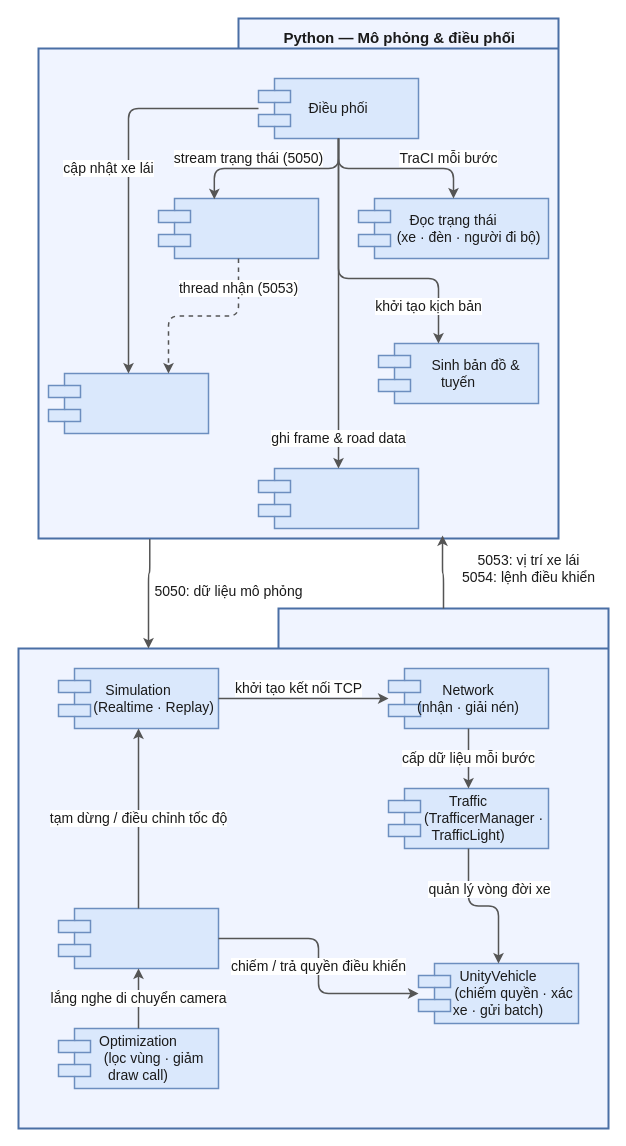
The diagram is 626 pixels wide and 1146 high, and some of its shapes have lost their labels. Each missing label, with the box of its shape:
Lưu phiên: (257, 467, 419, 529)
Mạng (tách khung · nén): (157, 197, 319, 259)
UI (Camera · HUD · nút điều khiển): (57, 907, 219, 969)
Unity — Hiển thị & tương tác: (17, 607, 609, 1129)
Xử lý xe lái: (47, 372, 209, 434)
